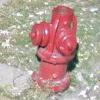Hydrant: (23, 1, 79, 92)
